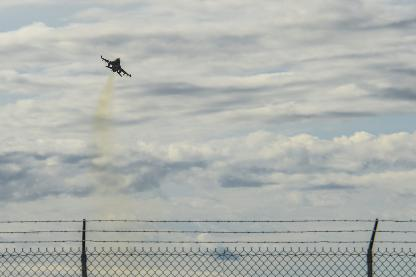F14: (100, 55, 130, 77)
